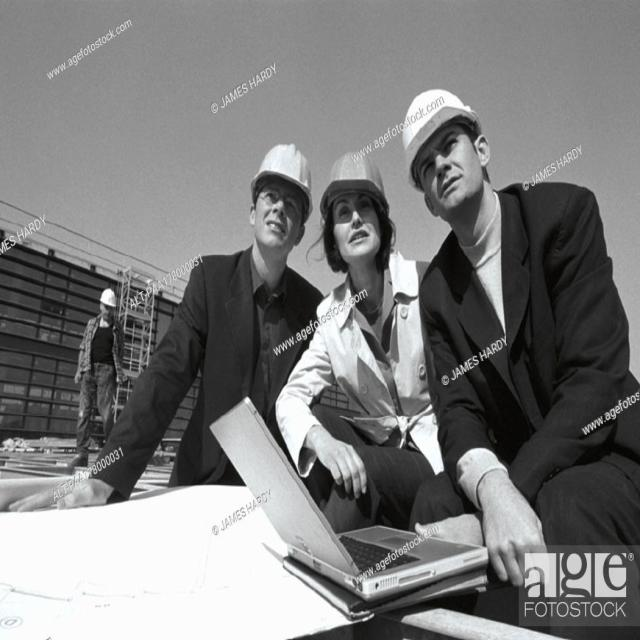helmet: (396, 90, 492, 212), (319, 156, 390, 262), (250, 145, 314, 255), (101, 287, 118, 324)
